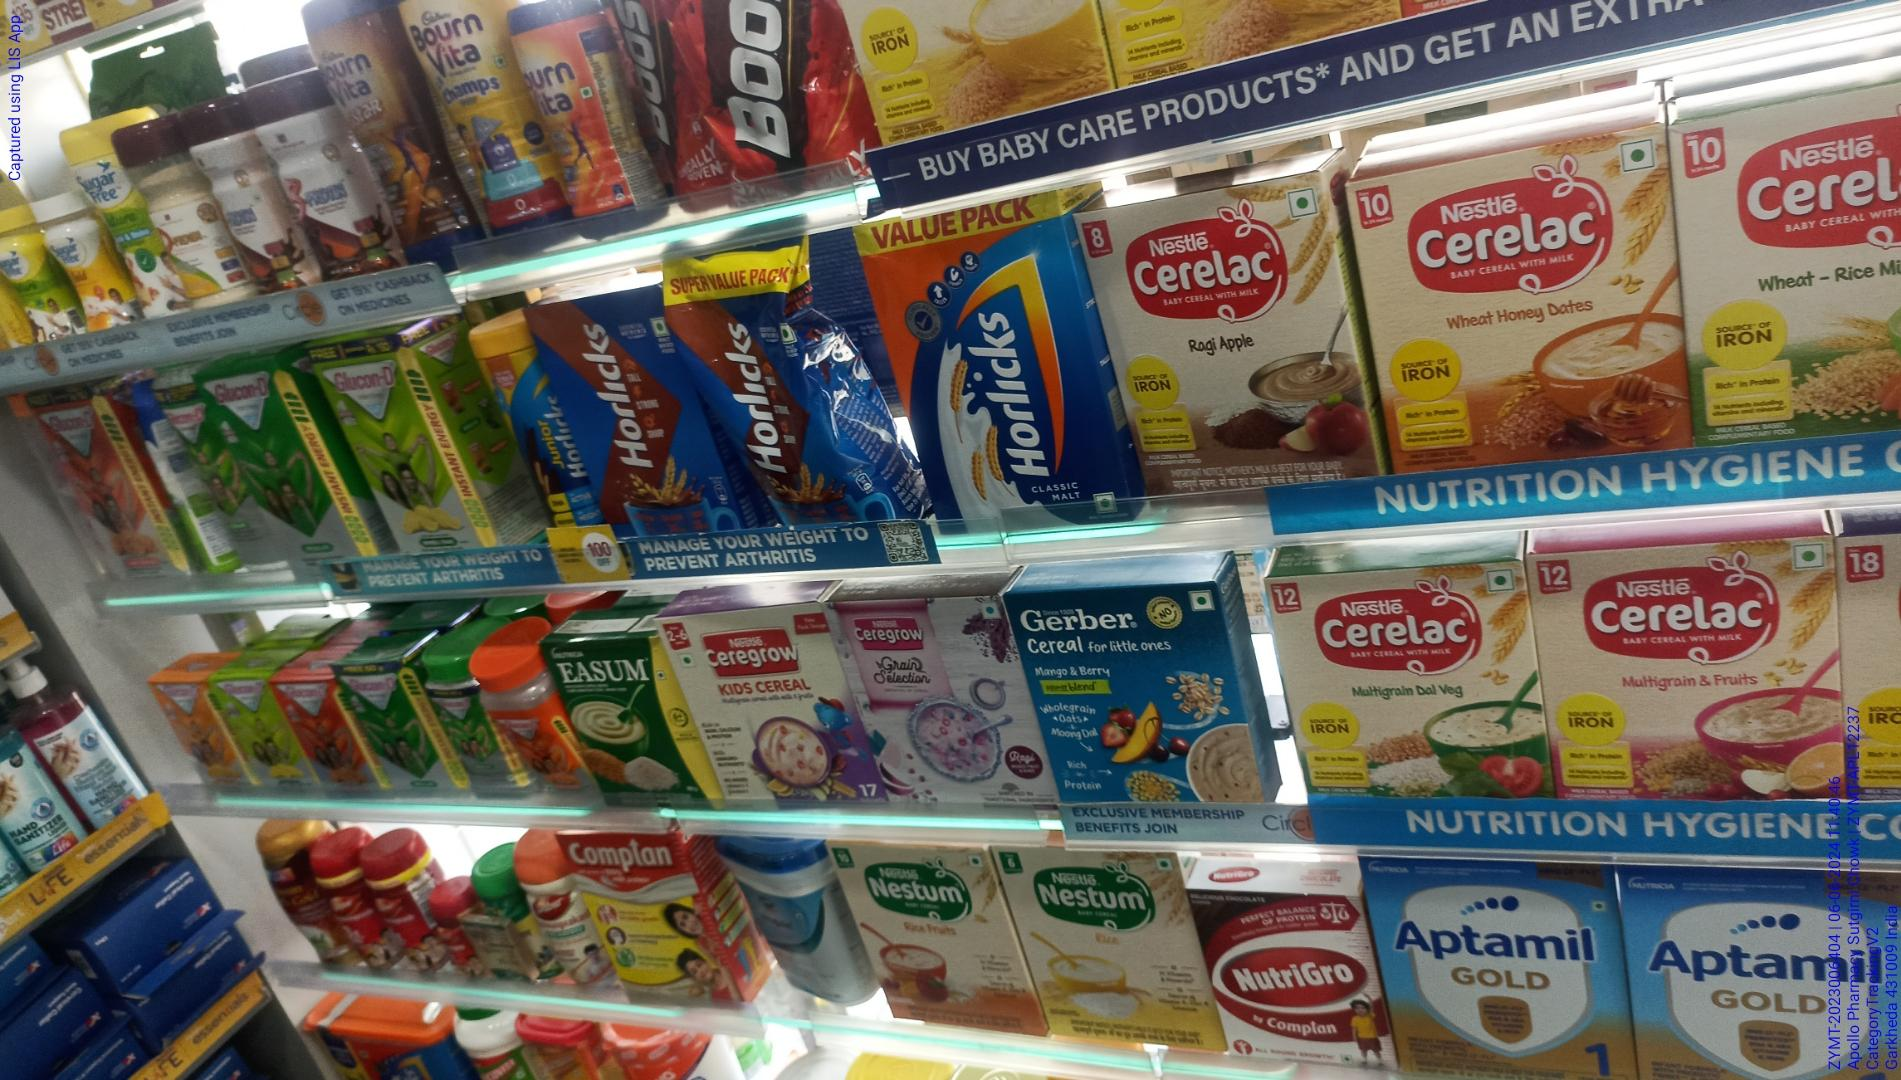BOURN_VITA_200_G_JAR: (513, 7, 610, 247)
BOURN_VITA_CHAMPS_500_G_JAR: (407, 0, 511, 248)
HORLICK_CHOCOLATE_750_G_POUCH: (678, 249, 809, 535)
